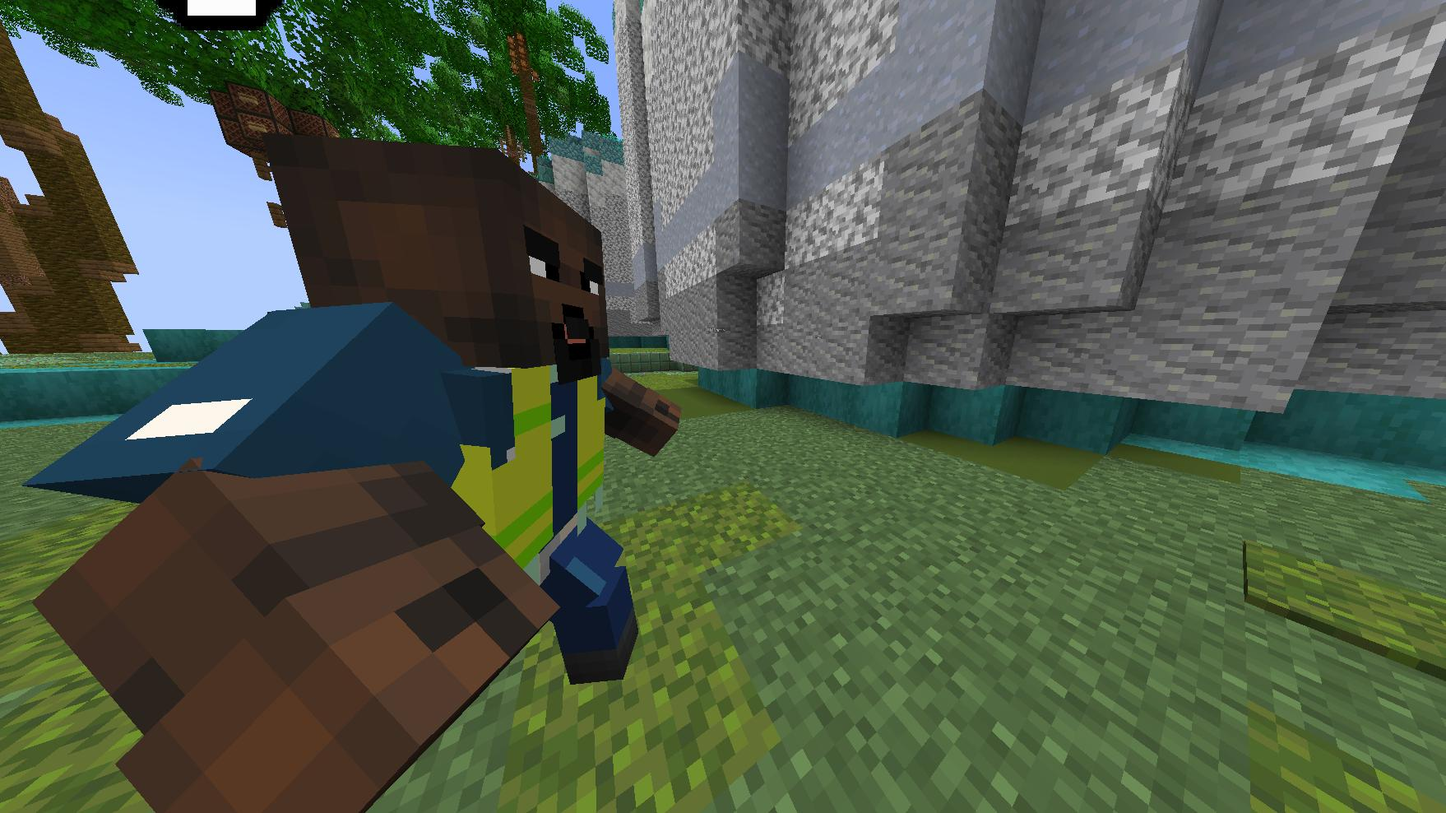Guardian: (29, 134, 679, 813)
